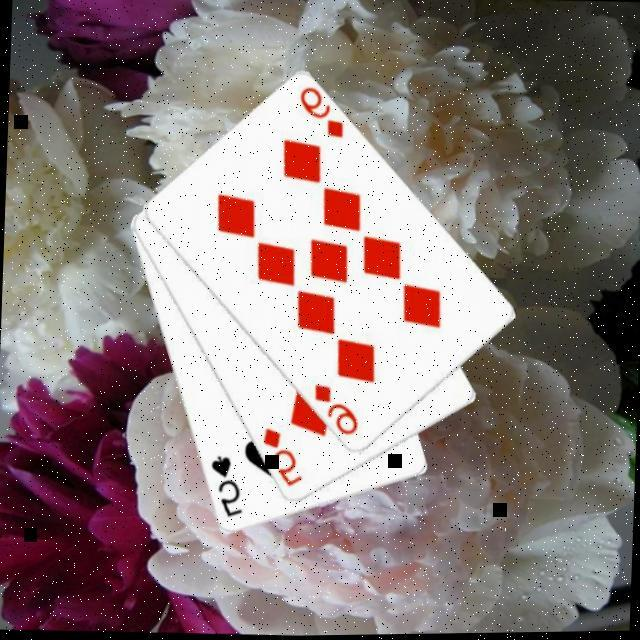5D: (254, 422, 304, 490)
5S: (203, 452, 244, 521)
9D: (292, 82, 346, 144), (306, 380, 360, 439)
